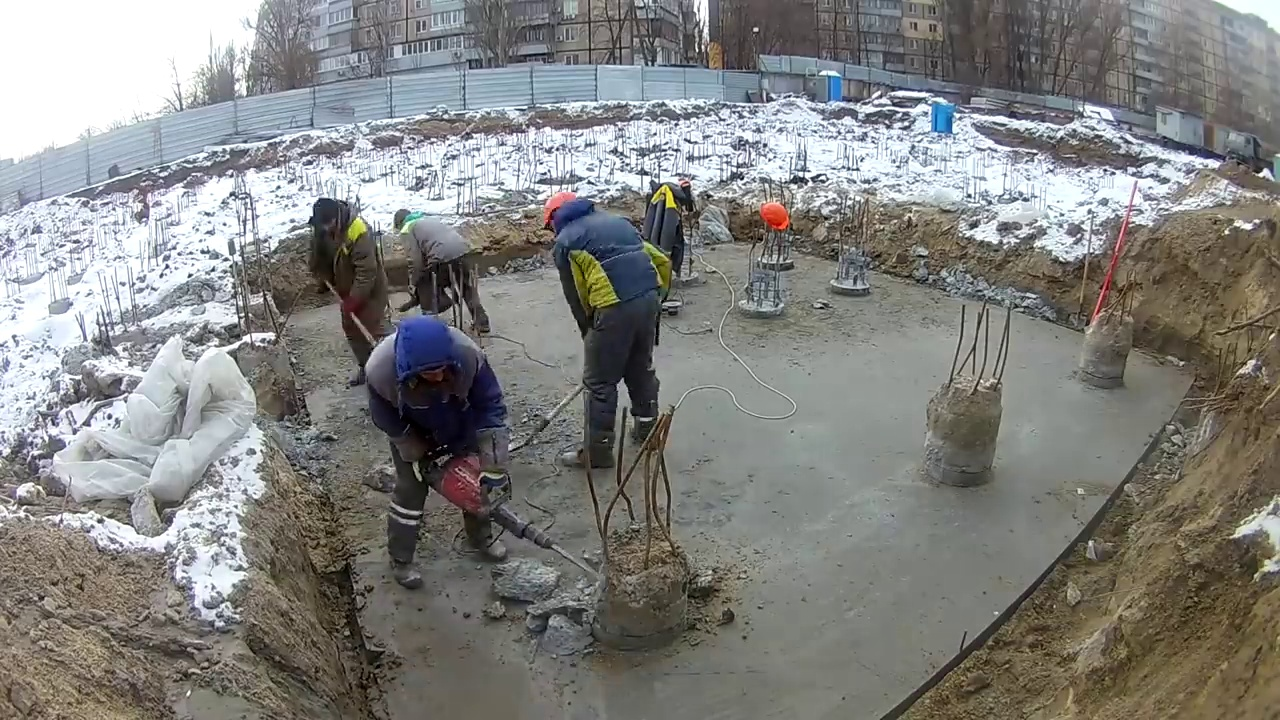helmet: (543, 190, 575, 227), (759, 200, 791, 231)
helmet-off: (395, 315, 459, 389), (306, 200, 347, 253), (392, 210, 420, 235)
helmet-on: (542, 189, 589, 232)
person: (366, 313, 511, 591), (541, 184, 673, 474), (305, 194, 401, 389), (388, 209, 491, 339)
